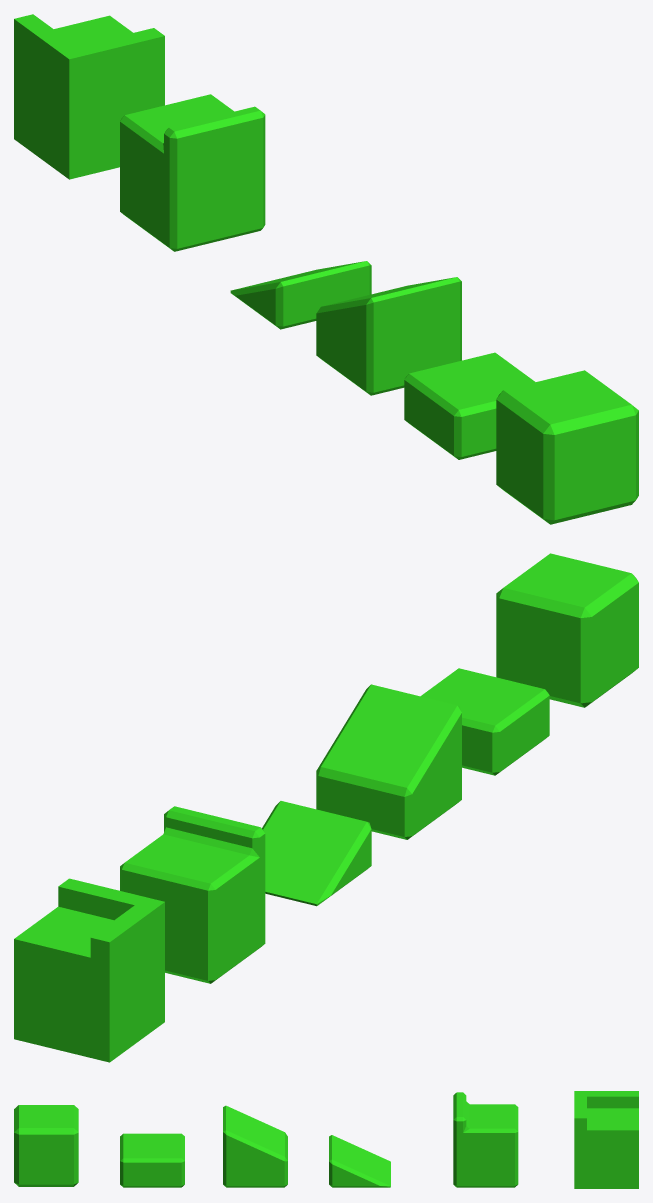
The model's file is microgrids.glb.
3 views of the same model, one above another, from view 1: azimuth 30°, elevation 25°; view 2: azimuth 150°, elevation 25°; view 3: azimuth 270°, elevation 25° (orthographic). The views are drawn at different scales.
Visible parts, largest first — view 1: Edge, Double, Block, Upper, Half, Lower; view 2: Double, Edge, Block, Upper, Lower, Half; view 3: Double, Edge, Block, Upper, Half, Lower.
Boxes of the visible parts, x1,y1,x2,y2 form: Edge: [120, 94, 265, 251]; Double: [14, 14, 164, 179]; Block: [496, 370, 638, 524]; Upper: [316, 277, 461, 395]; Half: [404, 352, 535, 459]; Lower: [230, 261, 371, 329]; Double: [14, 878, 164, 1062]; Edge: [120, 806, 265, 983]; Block: [496, 553, 638, 707]; Upper: [316, 684, 461, 839]; Lower: [262, 801, 371, 906]; Half: [420, 668, 549, 775]; Double: [574, 1091, 638, 1188]; Edge: [453, 1092, 518, 1187]; Block: [14, 1105, 78, 1186]; Upper: [223, 1105, 287, 1187]; Half: [120, 1133, 184, 1187]; Lower: [329, 1135, 390, 1187].
Size of what is drawn, in the model's own units: 2 by 2.4 by 19.29.
